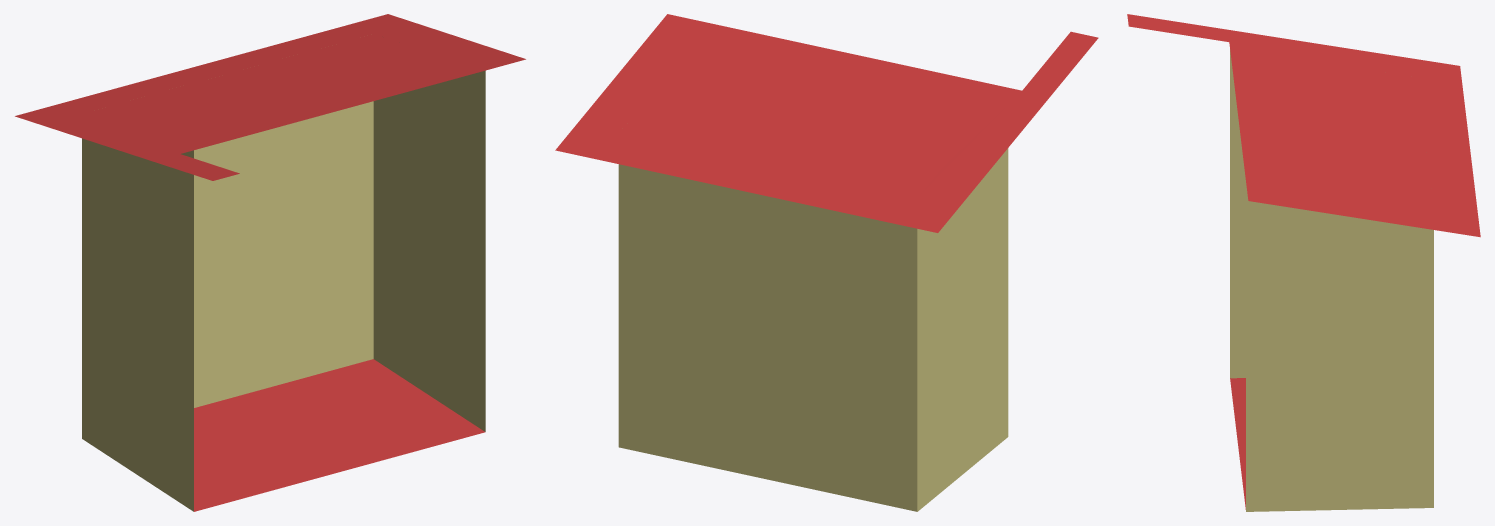
3 views of the same model, side by side, from view 1: azimuth 30°, elevation 25°; view 2: azimuth 150°, elevation 25°; view 3: azimuth 270°, elevation 25° (orthographic). The views are drawn at different scales.
Bounding box in the file's own units: 7.01 × 5.94 × 6.45.
